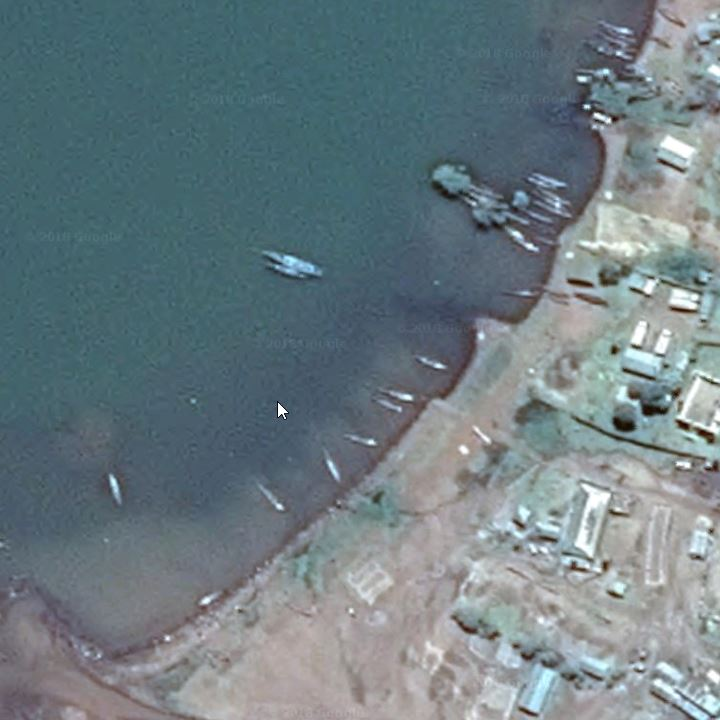boat: (254, 245, 327, 277), (247, 475, 291, 517), (316, 444, 349, 486), (535, 283, 579, 312), (374, 381, 423, 406), (570, 288, 618, 313), (498, 228, 541, 255), (100, 466, 127, 509), (532, 198, 578, 221), (571, 65, 622, 85), (407, 351, 452, 373), (534, 187, 577, 209), (264, 264, 312, 283), (559, 270, 602, 290), (342, 428, 380, 450), (656, 7, 691, 29), (530, 191, 570, 210), (596, 44, 635, 63), (598, 18, 639, 36), (496, 287, 547, 301), (369, 398, 408, 416), (529, 171, 570, 188), (533, 231, 566, 252), (600, 29, 640, 46), (470, 182, 505, 200), (501, 208, 532, 227), (525, 206, 555, 225), (524, 177, 560, 191), (466, 189, 495, 205), (602, 34, 630, 50), (456, 194, 483, 210)
